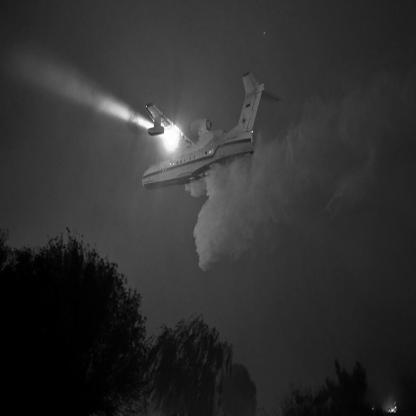Be200: (143, 72, 283, 192)
